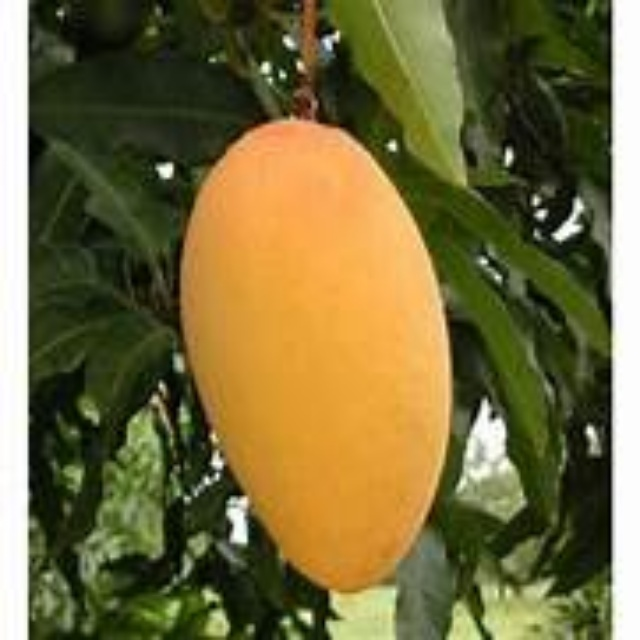mango: (193, 118, 445, 583)
